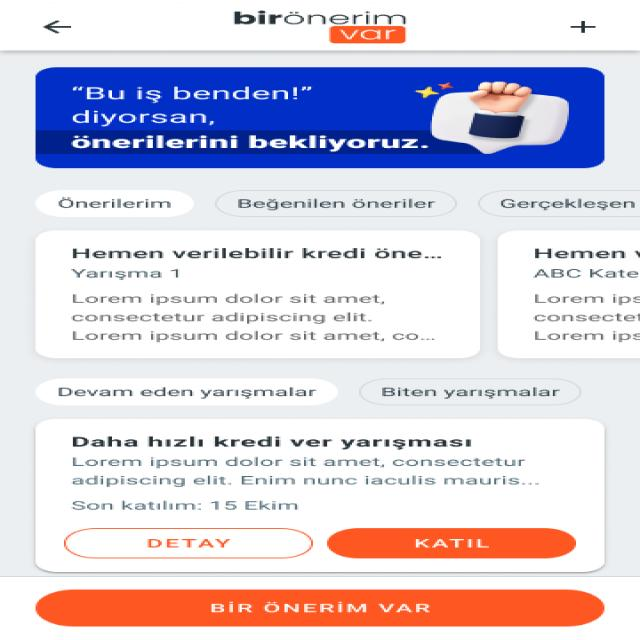QLabel: (64, 292, 450, 344), (64, 454, 551, 491), (64, 434, 476, 452), (66, 245, 447, 263), (522, 292, 640, 344), (198, 599, 438, 618), (54, 385, 322, 400), (66, 498, 302, 514), (232, 196, 439, 212), (374, 384, 564, 400), (524, 243, 640, 261), (495, 197, 636, 211), (405, 533, 496, 554), (522, 266, 640, 281), (52, 196, 175, 210), (66, 267, 184, 280), (139, 536, 234, 550)
VAppBar: (0, 0, 640, 50)
VBtn: (37, 588, 606, 628), (64, 526, 313, 560), (326, 527, 577, 560)
VCard: (30, 418, 609, 574), (30, 232, 484, 359), (499, 230, 640, 359)
VChip: (37, 378, 338, 408), (216, 190, 458, 218), (361, 377, 581, 406), (34, 190, 194, 220), (478, 191, 640, 217)
VFooter: (0, 575, 640, 640)
VIcon: (38, 18, 78, 36), (564, 18, 598, 35), (413, 86, 440, 99)
VImg: (33, 67, 608, 169), (226, 8, 418, 46)
